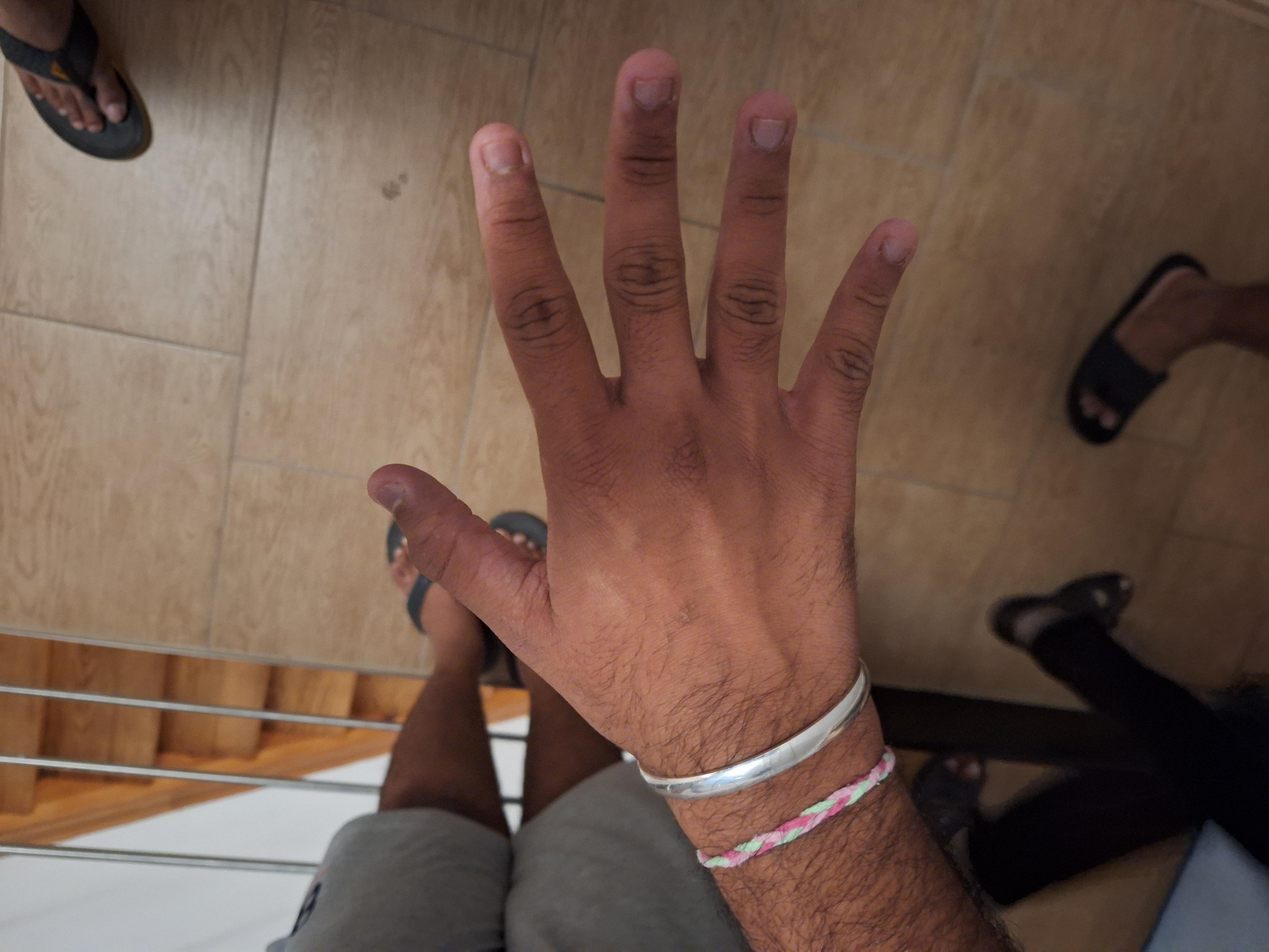Fingernail: (483, 140, 524, 174), (633, 79, 674, 111), (751, 117, 788, 149), (373, 483, 403, 513), (882, 236, 913, 264)
